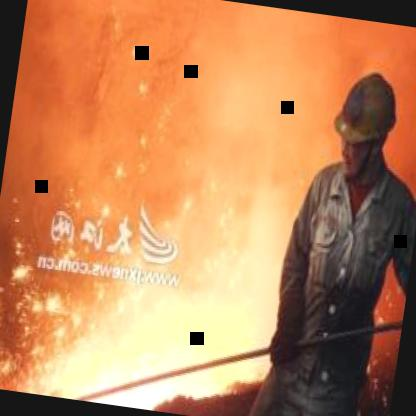helmet: (325, 67, 403, 182)
